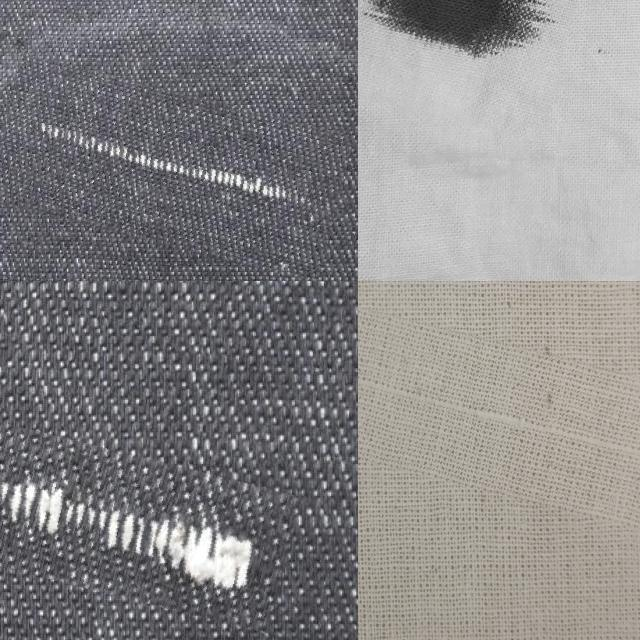Hole: (358, 0, 580, 129)
Thread_other: (0, 72, 347, 263), (358, 281, 640, 494), (0, 415, 297, 607)
